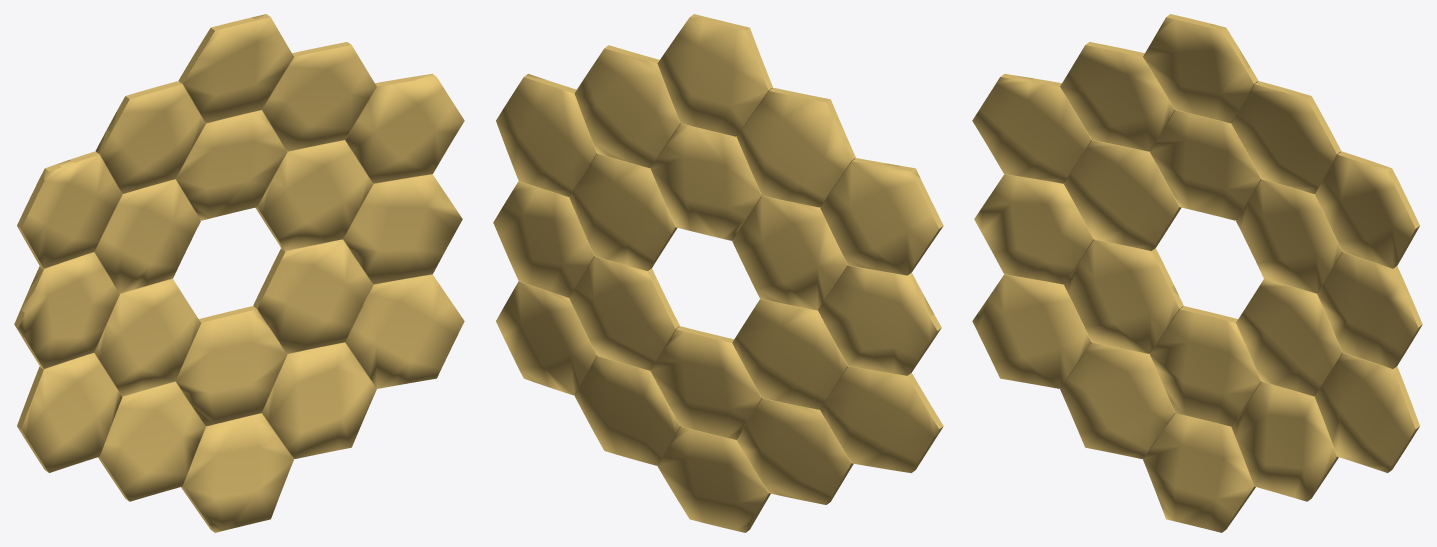
The picture shows the model from 3 angles, left to right: view 1: azimuth 30°, elevation 25°; view 2: azimuth 150°, elevation 25°; view 3: azimuth 330°, elevation 25°; orthographic projection.
Parts seen in each view (by area): view 1: Gold Plating; view 2: Gold Plating; view 3: Gold Plating.
Part boxes in pixels (x1,y1,x2,y2): Gold Plating: [14, 14, 464, 532]; Gold Plating: [493, 14, 943, 532]; Gold Plating: [972, 14, 1422, 532].
Bounding box in the file's own units: 5.77 × 6.23 × 0.4134.
